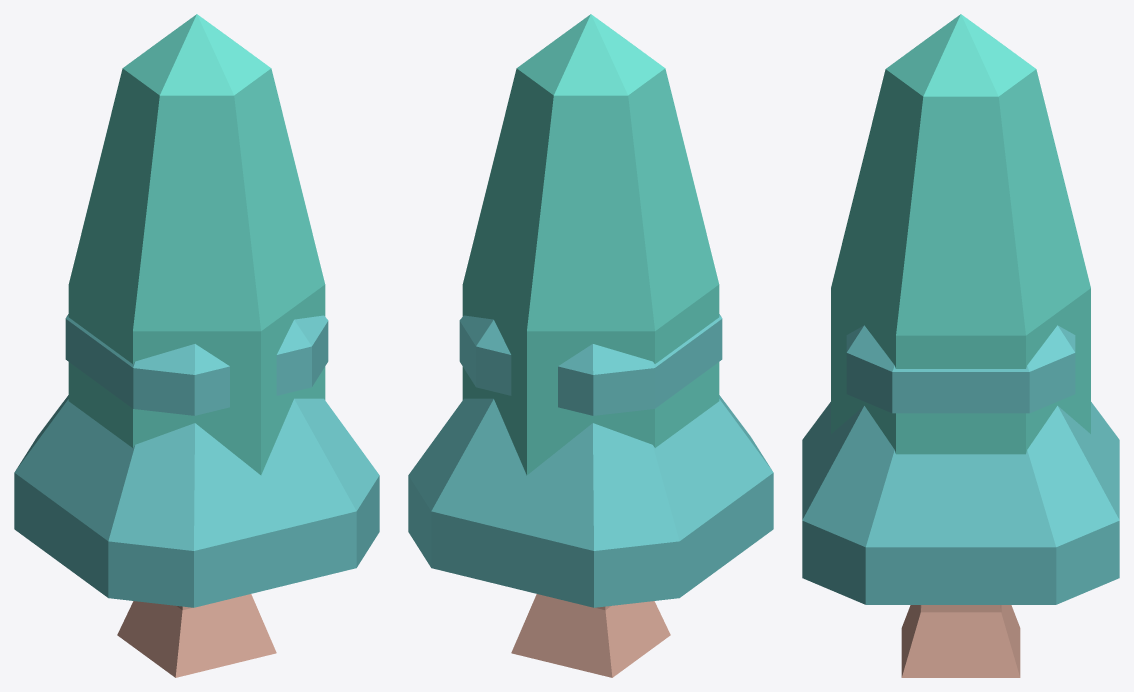
The model's file is saplings.glb.
3 renders of one model, left to right at view 1: azimuth 30°, elevation 25°; view 2: azimuth 150°, elevation 25°; view 3: azimuth 270°, elevation 25°, orthographic.
Visible parts, largest first — view 1: tree_pineSmallA, tree_small; view 2: tree_pineSmallA, tree_small; view 3: tree_small, tree_pineSmallA.
Part boxes in pixels (<box>): tree_pineSmallA: <box>14,314,379,677</box>; tree_small: <box>68,14,325,475</box>; tree_pineSmallA: <box>408,314,773,677</box>; tree_small: <box>462,14,719,475</box>; tree_small: <box>831,14,1090,454</box>; tree_pineSmallA: <box>802,325,1119,677</box>.
Bounding box in the file's own units: 0.5 × 1.11 × 0.5.
